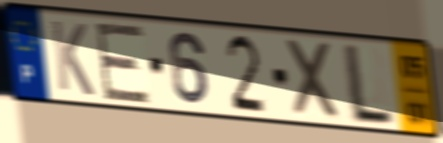2: (224, 33, 268, 116)
6: (167, 29, 212, 108)
E: (92, 21, 153, 106)
K: (48, 17, 97, 99)
L: (343, 42, 397, 129)
X: (283, 35, 343, 123)
